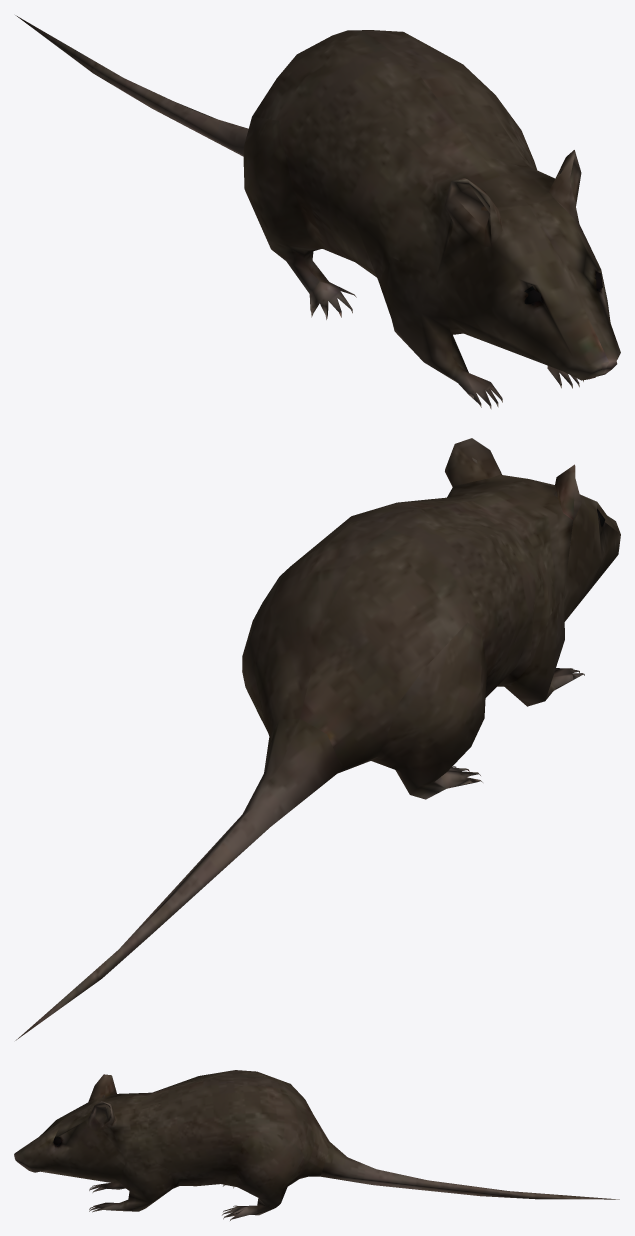
Rendered from street_rat.glb.
3 renders of one model, top to bottom at view 1: azimuth 30°, elevation 25°; view 2: azimuth 150°, elevation 25°; view 3: azimuth 270°, elevation 25°, orthographic. The views are drawn at different scales.
Parts seen in each view (by area): view 1: street_rat; view 2: street_rat; view 3: street_rat.
Part boxes in pixels (left/top/right/bottom): street_rat: left=15, top=15, right=620, bottom=409; street_rat: left=15, top=438, right=620, bottom=1040; street_rat: left=14, top=1070, right=619, bottom=1220.
Bounding box in the file's own units: 0.0318 × 0.0332 × 0.1479.
1 material, 1 textured.
